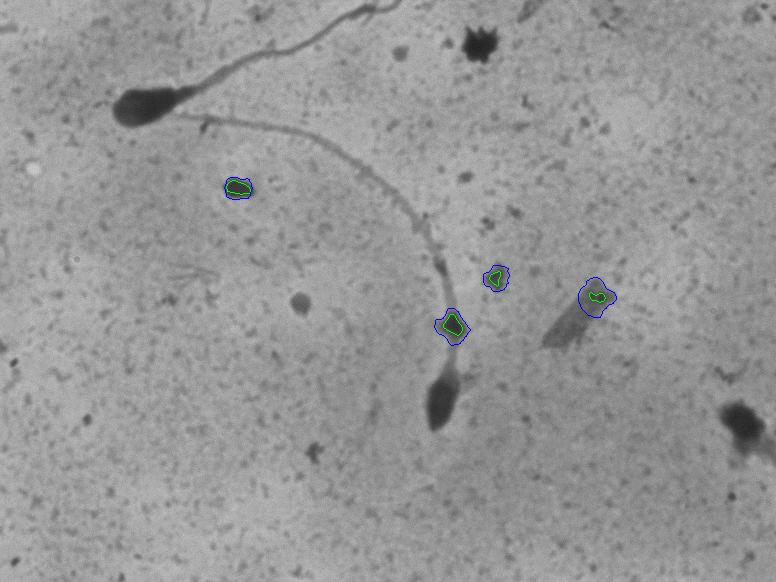Abnormal: (191, 91, 491, 451), (84, 25, 397, 155)
